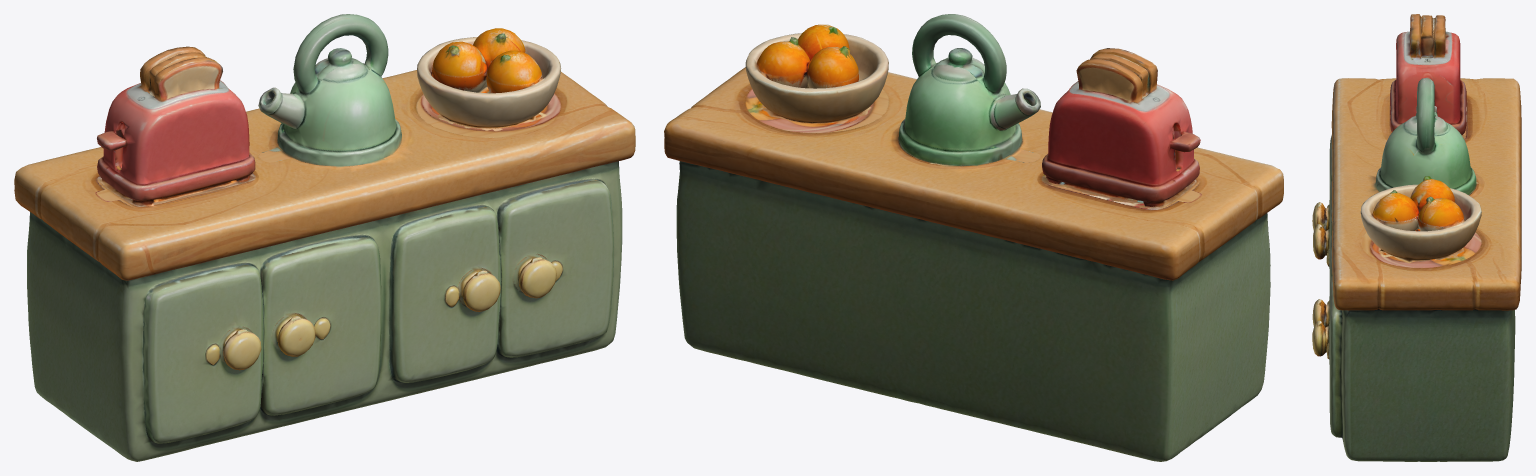
The model's file is KitchenCounterCartoon.glb.
The picture shows the model from 3 angles, left to right: view 1: azimuth 30°, elevation 25°; view 2: azimuth 150°, elevation 25°; view 3: azimuth 270°, elevation 25°; orthographic projection. The views are drawn at different scales.
Visible parts, largest first — view 1: texture_mapping; view 2: texture_mapping; view 3: texture_mapping.
Part boxes in pixels (bbox=[...]): texture_mapping: bbox=[14, 14, 635, 461]; texture_mapping: bbox=[664, 14, 1283, 461]; texture_mapping: bbox=[1312, 14, 1521, 461].
Bounding box in the file's own units: 1 × 0.6577 × 0.4265.
1 material, 1 textured.
